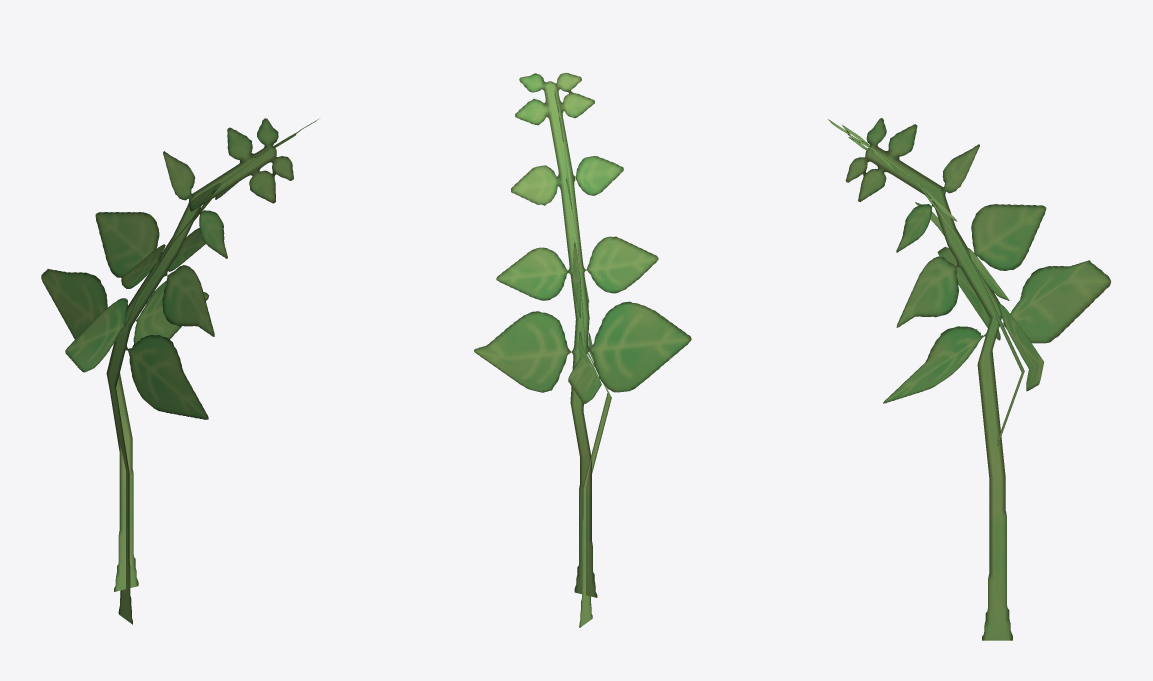
Rendered from LeafSetB_10.fbx.
3 renders of one model, left to right at view 1: azimuth 30°, elevation 25°; view 2: azimuth 150°, elevation 25°; view 3: azimuth 270°, elevation 25°, orthographic. The views are drawn at different scales.
Visible parts, largest first — view 1: LeafSetB_10; view 2: LeafSetB_10; view 3: LeafSetB_10.
Boxes of the visible parts, bbox=[...] form: LeafSetB_10: bbox=[41, 118, 319, 624]; LeafSetB_10: bbox=[474, 72, 691, 627]; LeafSetB_10: bbox=[828, 118, 1111, 640].
Size of the model in its own units: 0.4396 by 0.7702 by 0.4251.
